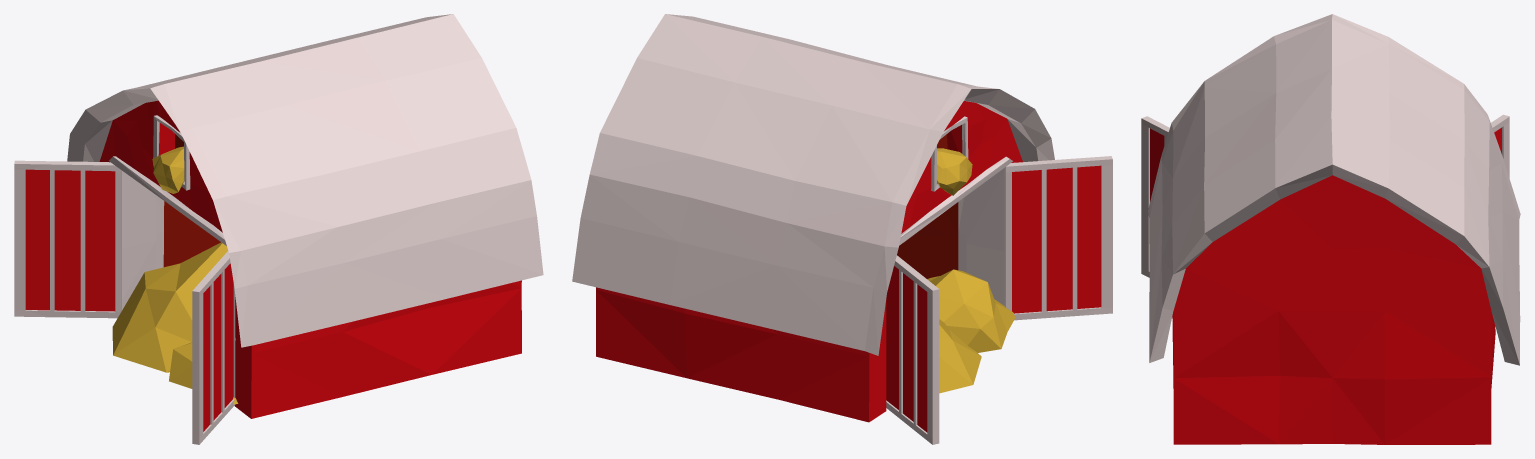
File: Barn.fbx
3 renders of one model, left to right at view 1: azimuth 30°, elevation 25°; view 2: azimuth 150°, elevation 25°; view 3: azimuth 270°, elevation 25°, orthographic.
Visible parts, largest first — view 1: Cube.001, Cube.003, Icosphere.002, Cube.002, Icosphere.004, Icosphere.003; view 2: Cube.001, Cube.002, Cube.003, Icosphere.003, Icosphere.002, Icosphere.004; view 3: Cube.001, Cube.002, Cube.003.
Boxes of the visible parts, x1,y1,x2,y2 form: Cube.001: [67, 14, 543, 418]; Cube.003: [14, 160, 121, 318]; Icosphere.002: [112, 242, 228, 372]; Cube.002: [192, 251, 235, 444]; Icosphere.004: [152, 146, 184, 193]; Icosphere.003: [169, 342, 238, 404]; Cube.001: [572, 14, 1054, 422]; Cube.002: [1004, 156, 1112, 320]; Cube.003: [886, 255, 939, 444]; Icosphere.003: [927, 269, 1015, 352]; Icosphere.002: [939, 319, 981, 393]; Icosphere.004: [936, 148, 972, 195]; Cube.001: [1148, 14, 1520, 444]; Cube.002: [1141, 116, 1169, 277]; Cube.003: [1491, 114, 1509, 177].
Bounding box in the file's own units: 1858 × 1407 × 1686.
